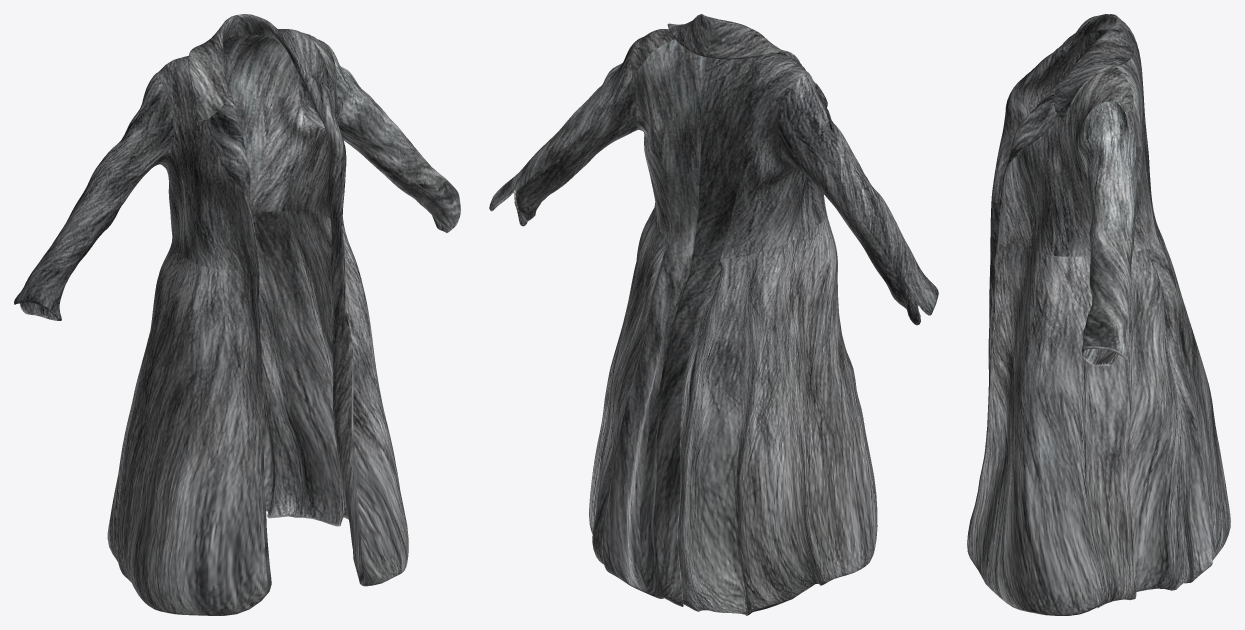
Rendered from female-coat.glb.
The picture shows the model from 3 angles, left to right: view 1: azimuth 30°, elevation 25°; view 2: azimuth 150°, elevation 25°; view 3: azimuth 270°, elevation 25°; orthographic projection. The views are drawn at different scales.
Visible parts, largest first — view 1: frockcoat_low.009; view 2: frockcoat_low.009; view 3: frockcoat_low.009.
Boxes of the visible parts, x1,y1,x2,y2 form: frockcoat_low.009: (14, 14, 460, 615); frockcoat_low.009: (489, 14, 938, 615); frockcoat_low.009: (967, 14, 1230, 615).
Bounding box in the file's own units: 1.76 × 2.08 × 0.9308.
Materials: 1 (1 with a texture image).
